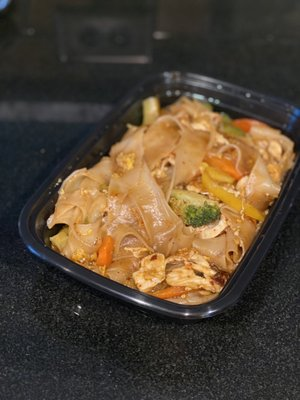sushi: (22, 93, 299, 320)
